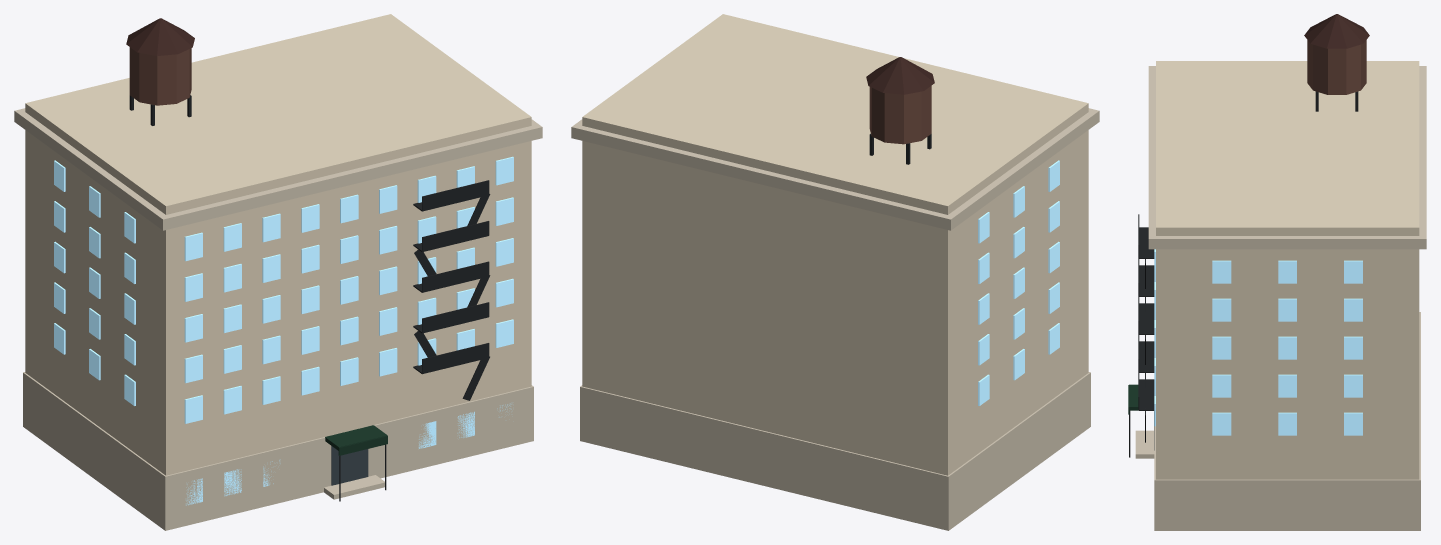
File: town_mw_apts.glb
The picture shows the model from 3 angles, left to right: view 1: azimuth 30°, elevation 25°; view 2: azimuth 150°, elevation 25°; view 3: azimuth 270°, elevation 25°; orthographic projection. The views are drawn at different scales.
Visible parts, largest first — view 1: TownMwApts_body; view 2: TownMwApts_body; view 3: TownMwApts_body.
Part boxes in pixels (bbox=[...]): TownMwApts_body: bbox=[14, 14, 542, 530]; TownMwApts_body: bbox=[571, 14, 1099, 530]; TownMwApts_body: bbox=[1128, 14, 1426, 530].
Size of the model in its own units: 24.9 by 26.2 by 18.14.
